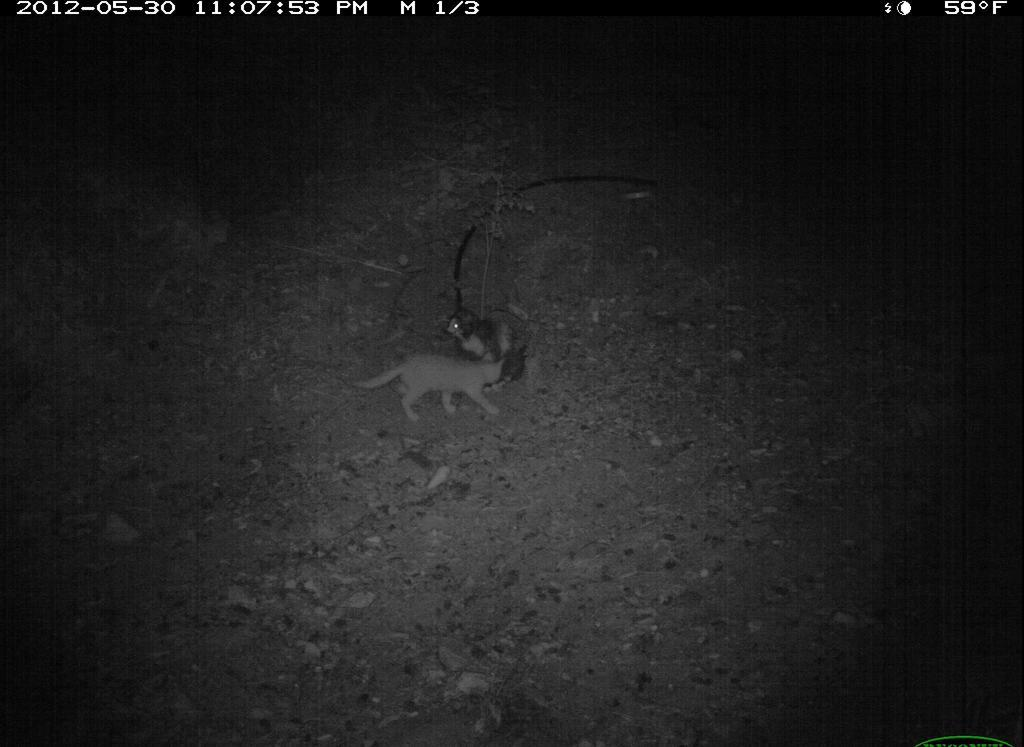cat: (349, 349, 511, 427), (445, 305, 529, 390)
